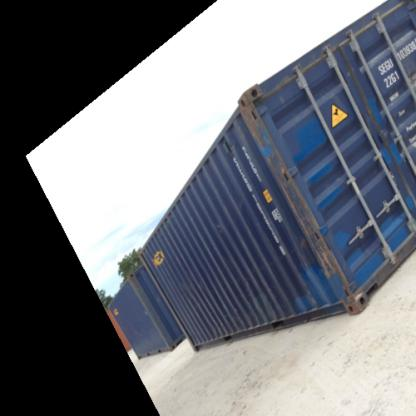Damage: (236, 97, 296, 188), (288, 184, 341, 280)
